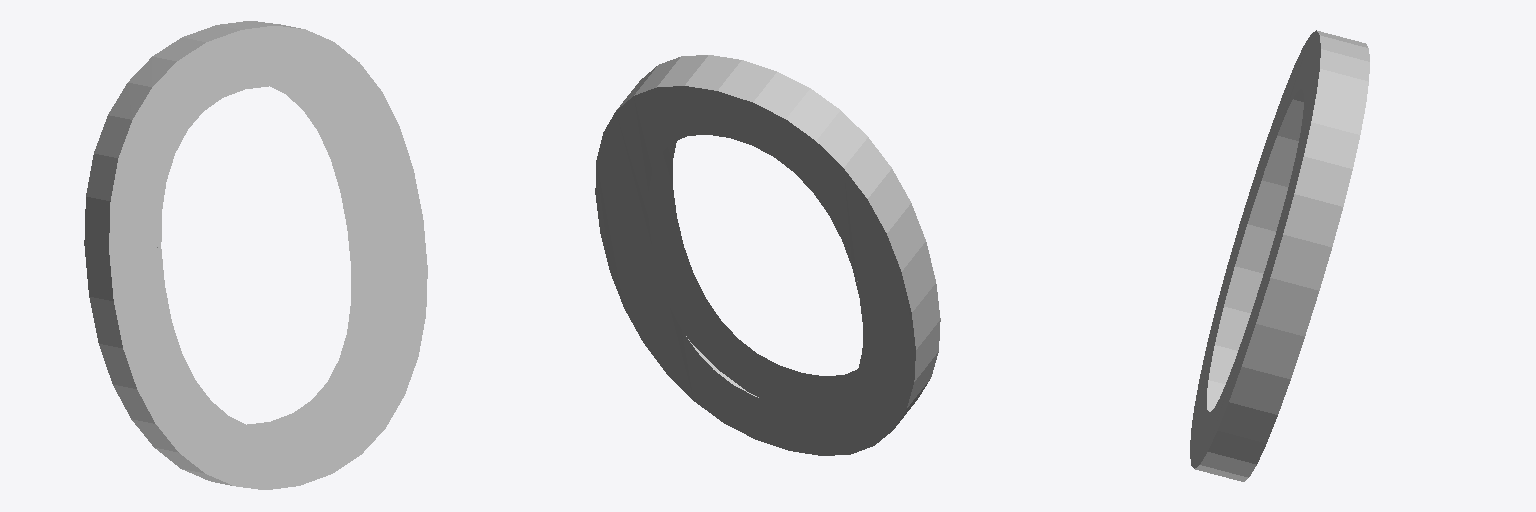
File: original-183.obj
3 views of the same model, side by side, from view 1: azimuth 30°, elevation 25°; view 2: azimuth 150°, elevation 25°; view 3: azimuth 270°, elevation 25° (orthographic).
Visible parts, largest first — view 1: #ID1055; view 2: #ID1055; view 3: #ID1055.
Part boxes in pixels (x1,y1,x2,y2): #ID1055: (84, 21, 427, 489); #ID1055: (595, 55, 940, 455); #ID1055: (1190, 30, 1369, 481).
Bounding box in the file's own units: 0.0056 × 0.0073 × 0.0028.